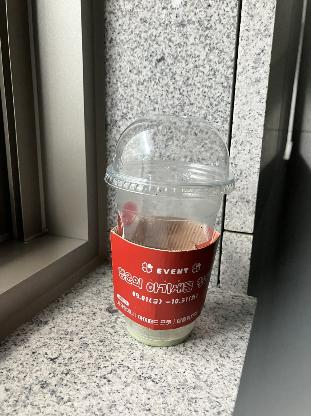Plastic Cup: (104, 115, 236, 347), (100, 115, 236, 199)
